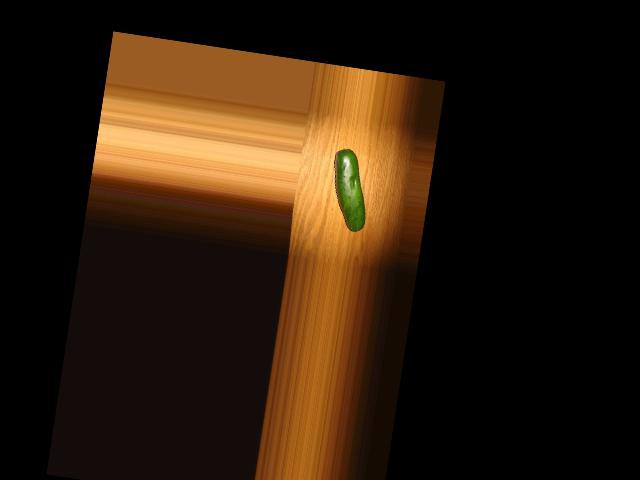cucumber: (324, 148, 374, 233)
